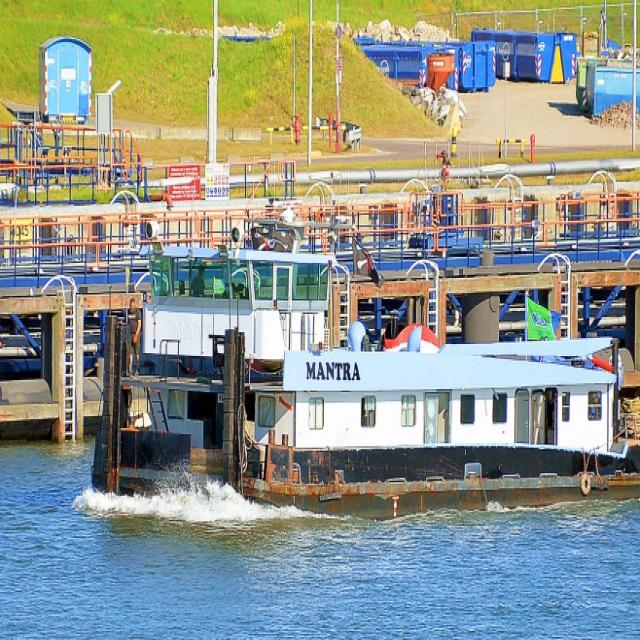tugboat: (90, 205, 640, 524)
